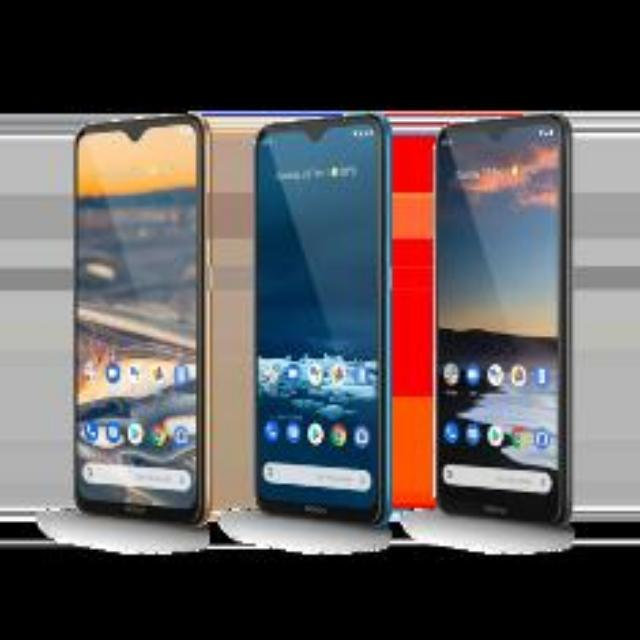Phone: (435, 114, 573, 530), (258, 118, 396, 526), (76, 114, 212, 520)
